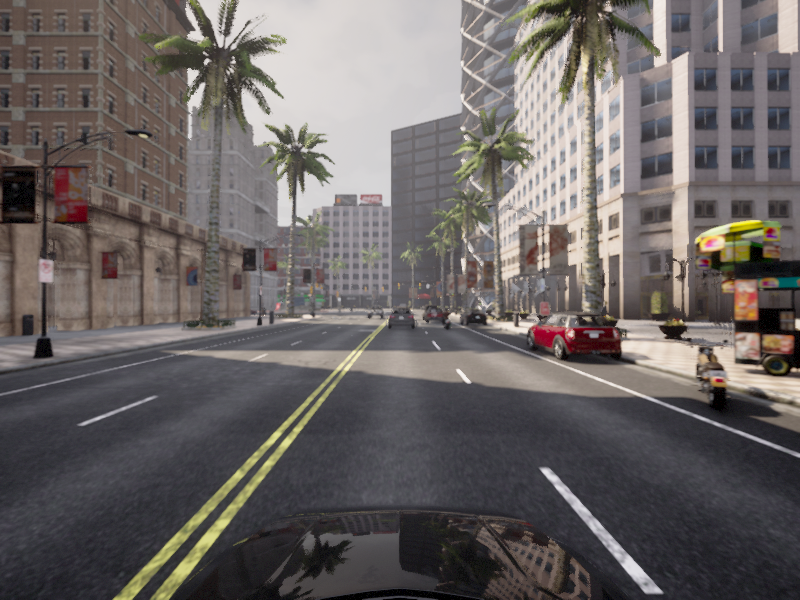vehicle: (387, 307, 415, 329), (424, 306, 446, 323), (391, 306, 412, 320), (440, 308, 453, 330), (422, 304, 439, 320)
